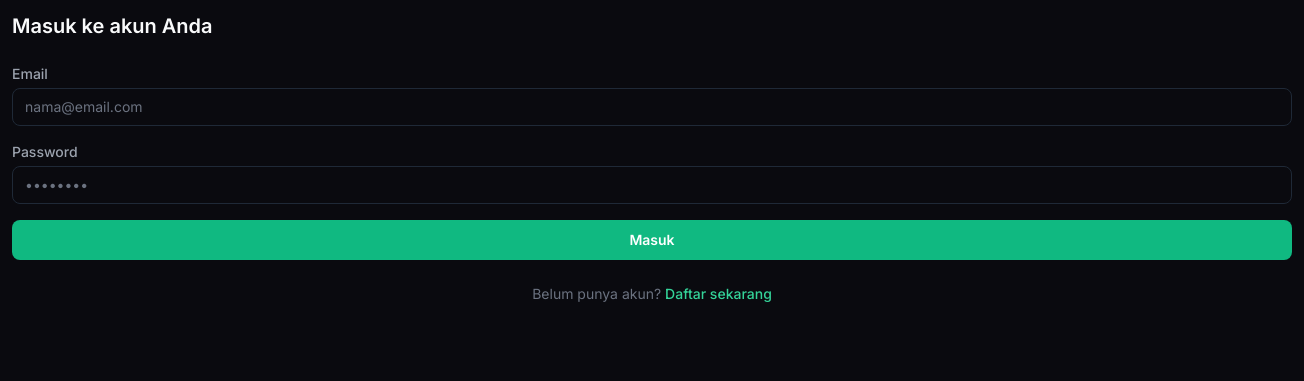
Test case: LoginPage › shows error message on failed login
Type "test@example.com" into the field labelled "Email" at (652, 107), box [12, 88, 1292, 126]
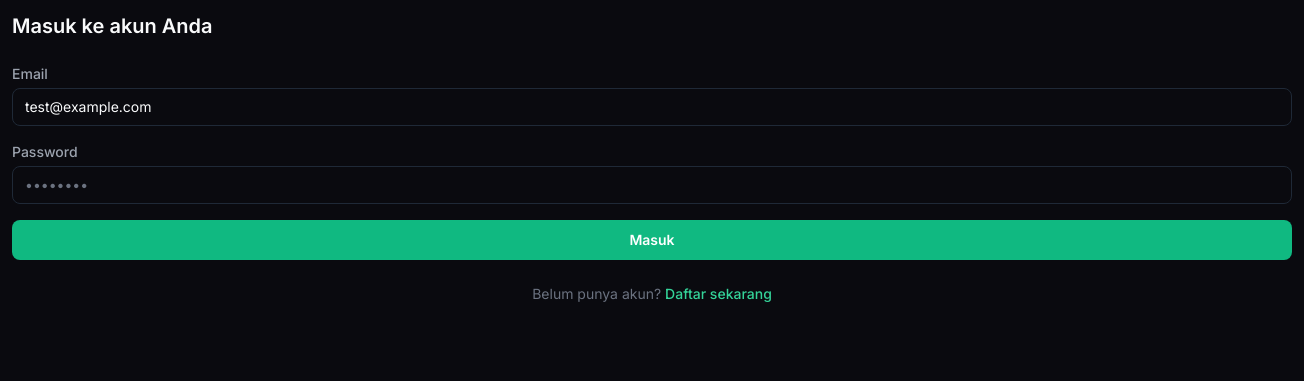
Type "wrongpassword" into the password field labelled "Password" at (652, 185), box [12, 166, 1292, 204]
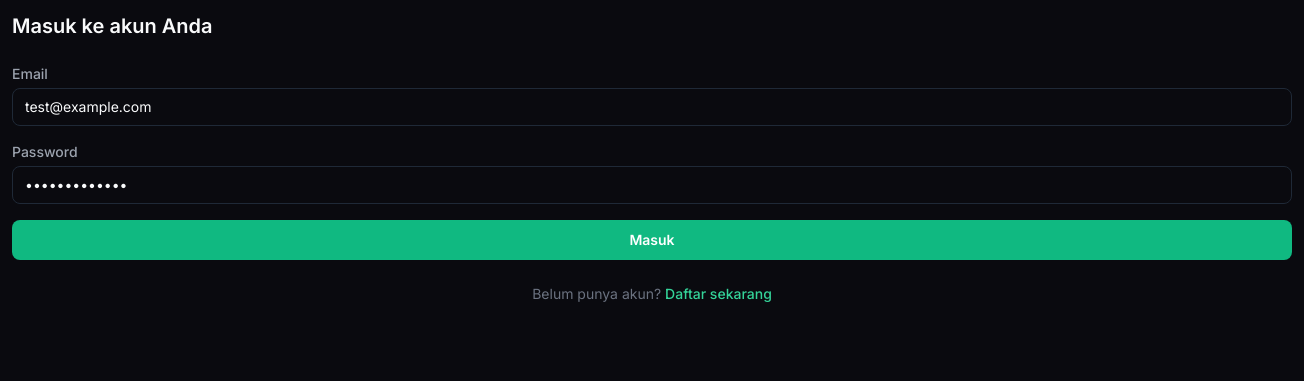
Click the button "Masuk" at (652, 240), box [12, 220, 1292, 260]
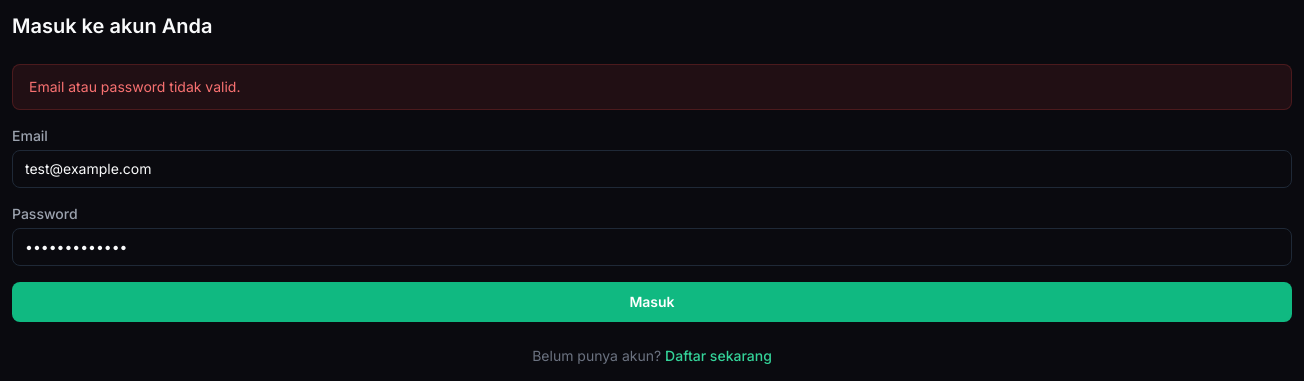
Check: the text "Email atau password tidak valid." is shown, box [12, 64, 1292, 110]
